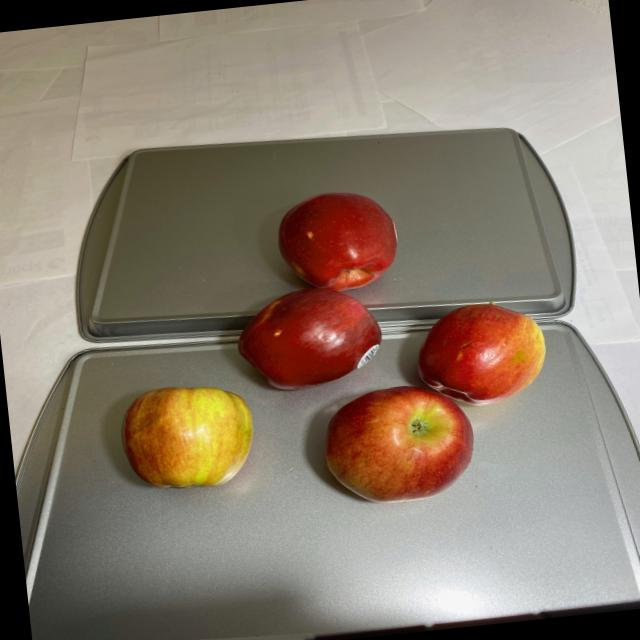apple: (92, 171, 554, 523)
